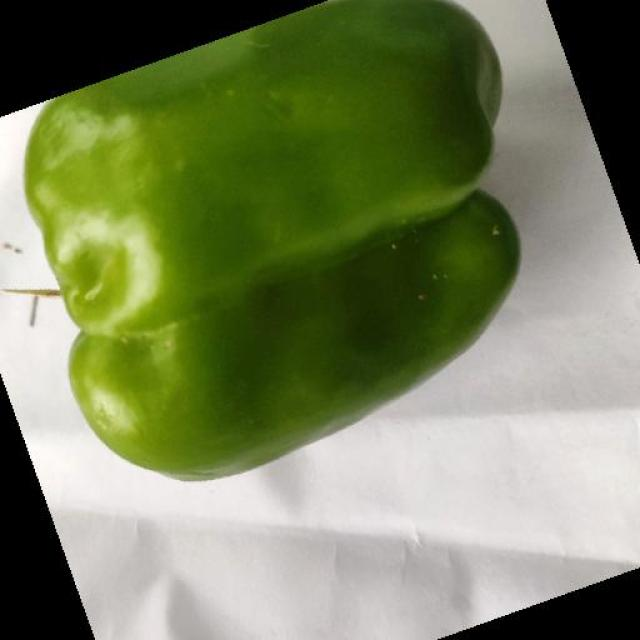Fresh_Capsicum: (21, 96, 511, 447)
